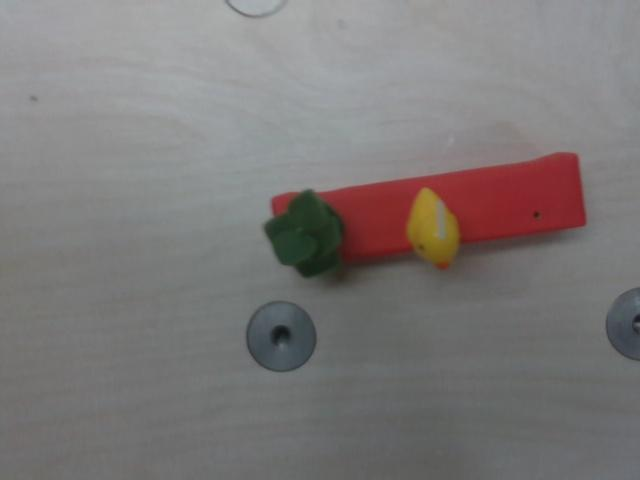leaf: (260, 185, 354, 287)
y_duck: (397, 181, 470, 276)
